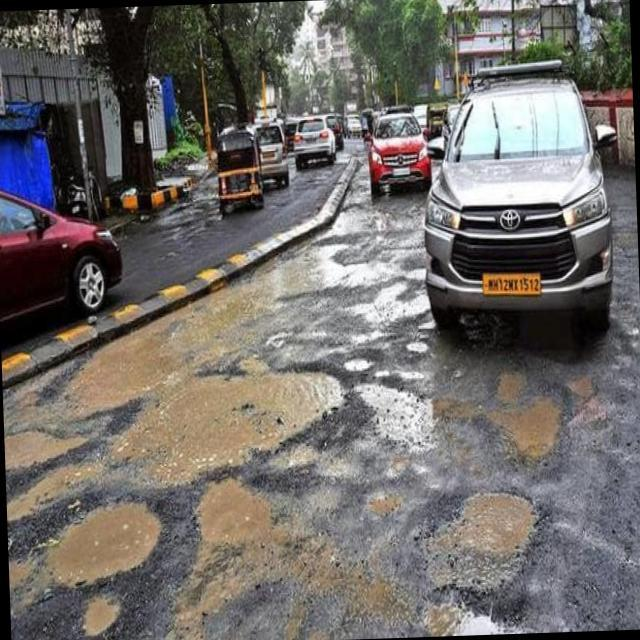Pothole: (168, 368, 336, 458), (444, 476, 548, 564), (67, 498, 158, 584), (180, 474, 274, 544), (415, 572, 515, 636), (3, 421, 88, 474), (269, 254, 378, 294), (491, 398, 560, 458), (342, 345, 374, 378)
